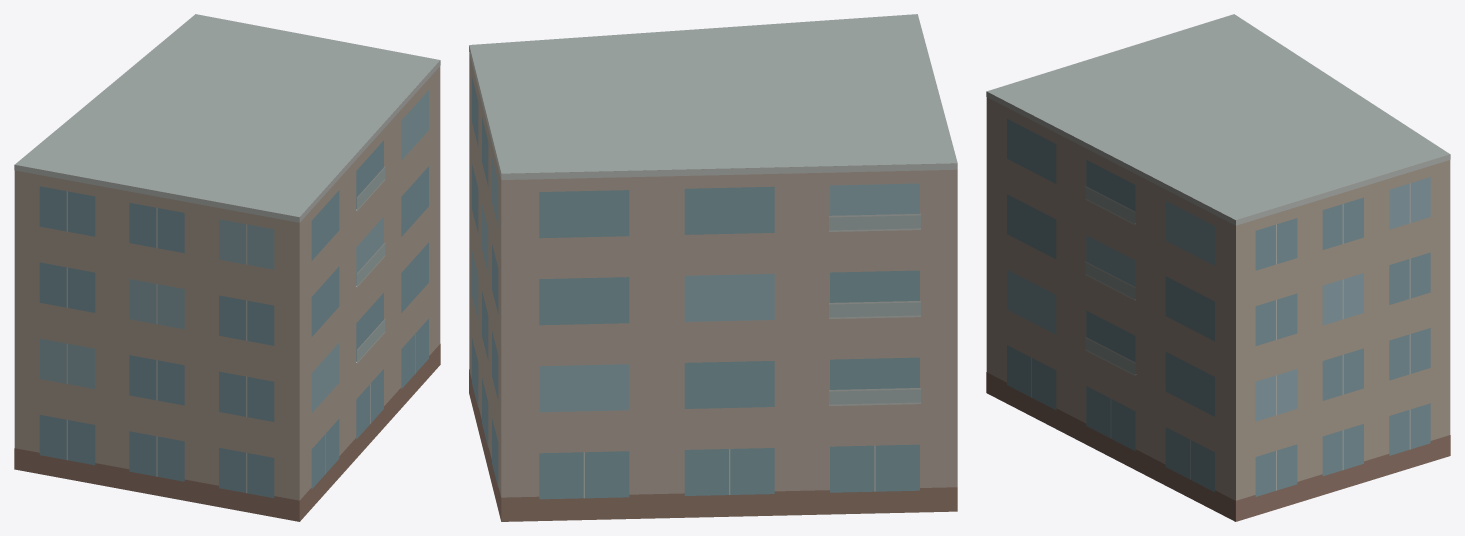
The model's file is survey-upis-32585294.glb.
The picture shows the model from 3 angles, left to right: view 1: azimuth 30°, elevation 25°; view 2: azimuth 150°, elevation 25°; view 3: azimuth 270°, elevation 25°; orthographic projection. The views are drawn at different scales.
Visible parts, largest first — view 1: survey-upis-32585294.tmp; view 2: survey-upis-32585294.tmp; view 3: survey-upis-32585294.tmp.
Part boxes in pixels (x1=…): survey-upis-32585294.tmp: x1=14, y1=14, x2=440, y2=521; survey-upis-32585294.tmp: x1=469, y1=14, x2=957, y2=521; survey-upis-32585294.tmp: x1=986, y1=14, x2=1450, y2=521.
Bounding box in the file's own units: 19.36 × 13.2 × 18.4.
